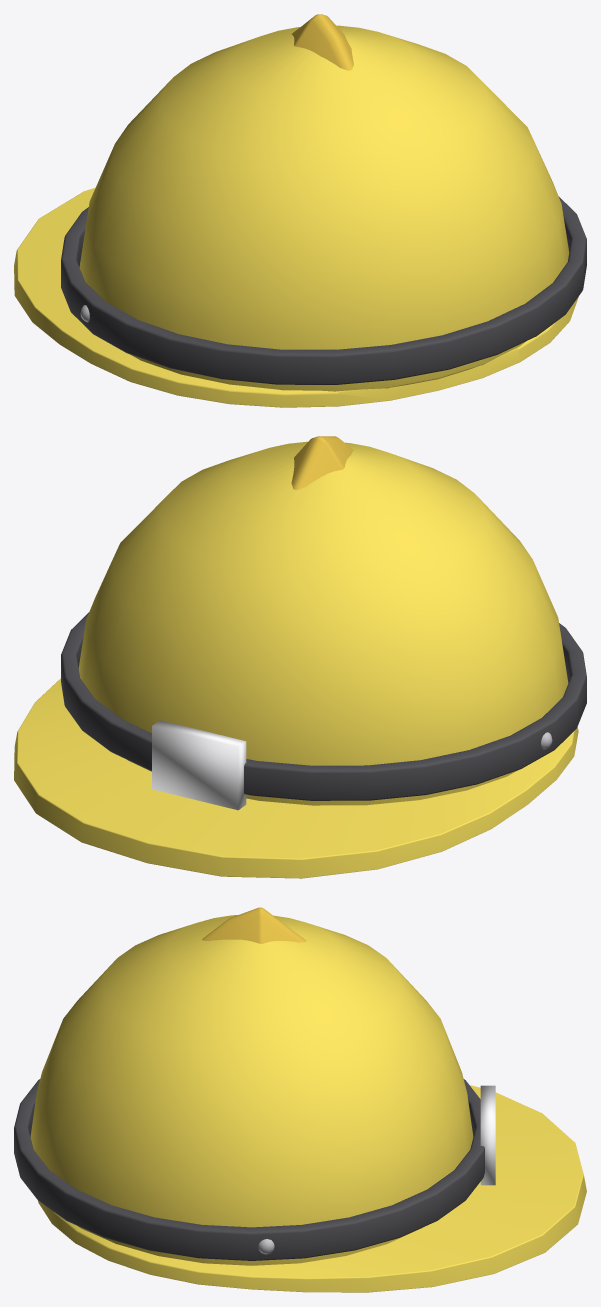
Rendered from hardhat.glb.
3 renders of one model, top to bottom at view 1: azimuth 30°, elevation 25°; view 2: azimuth 150°, elevation 25°; view 3: azimuth 270°, elevation 25°, orthographic. The views are drawn at different scales.
Visible parts, largest first — view 1: HAT_Hardhat_Shell, HAT_Hardhat_Band, HAT_Hardhat_Brim, HAT_Hardhat_Ridge; view 2: HAT_Hardhat_Shell, HAT_Hardhat_Brim, HAT_Hardhat_Band, HAT_Hardhat_Sticker, HAT_Hardhat_Ridge; view 3: HAT_Hardhat_Shell, HAT_Hardhat_Brim, HAT_Hardhat_Band, HAT_Hardhat_Ridge, HAT_Hardhat_Sticker.
Boxes of the visible parts, x1,y1,x2,y2 form: HAT_Hardhat_Shell: [79, 25, 569, 391]; HAT_Hardhat_Band: [61, 196, 586, 384]; HAT_Hardhat_Brim: [14, 188, 578, 407]; HAT_Hardhat_Ridge: [291, 14, 353, 70]; HAT_Hardhat_Shell: [78, 441, 568, 805]; HAT_Hardhat_Brim: [14, 678, 578, 878]; HAT_Hardhat_Band: [61, 612, 586, 800]; HAT_Hardhat_Sticker: [152, 720, 246, 810]; HAT_Hardhat_Ridge: [291, 436, 353, 489]; HAT_Hardhat_Shell: [30, 915, 473, 1265]; HAT_Hardhat_Brim: [38, 1085, 586, 1292]; HAT_Hardhat_Band: [14, 1079, 484, 1260]; HAT_Hardhat_Ridge: [202, 907, 306, 943]; HAT_Hardhat_Sticker: [480, 1085, 495, 1185].
Bounding box in the file's own units: 0.543 × 0.3322 × 0.6068.
